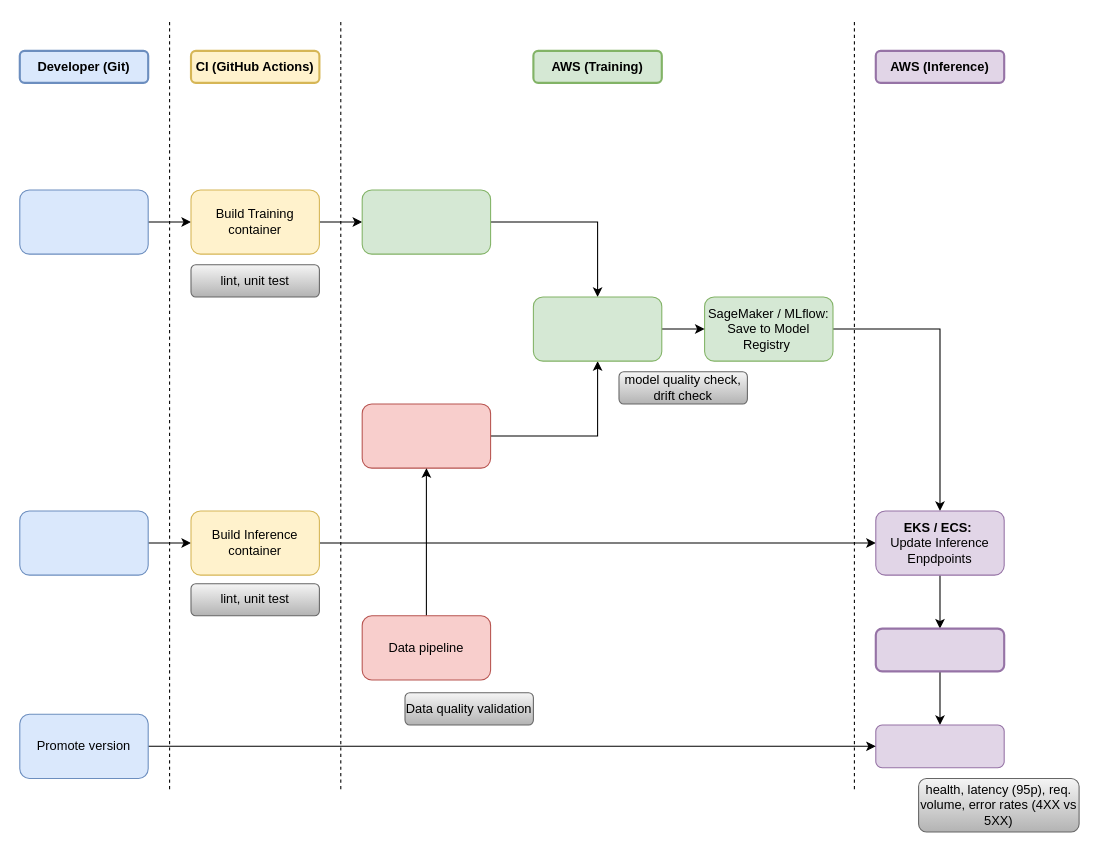
Some shapes in this 1098 by 851 pixel diagram are drawn without their labels. Each missing label, with the centre of its shape:
Blue/Green + Canary: (939,649)
Data change: (426,435)
Deploy to prod: (939,746)
Inference code change: (83,542)
Model code change: (83,221)
Run training pipeline: (597,328)
SageMaker : Create / Update pipeline: (426,221)
